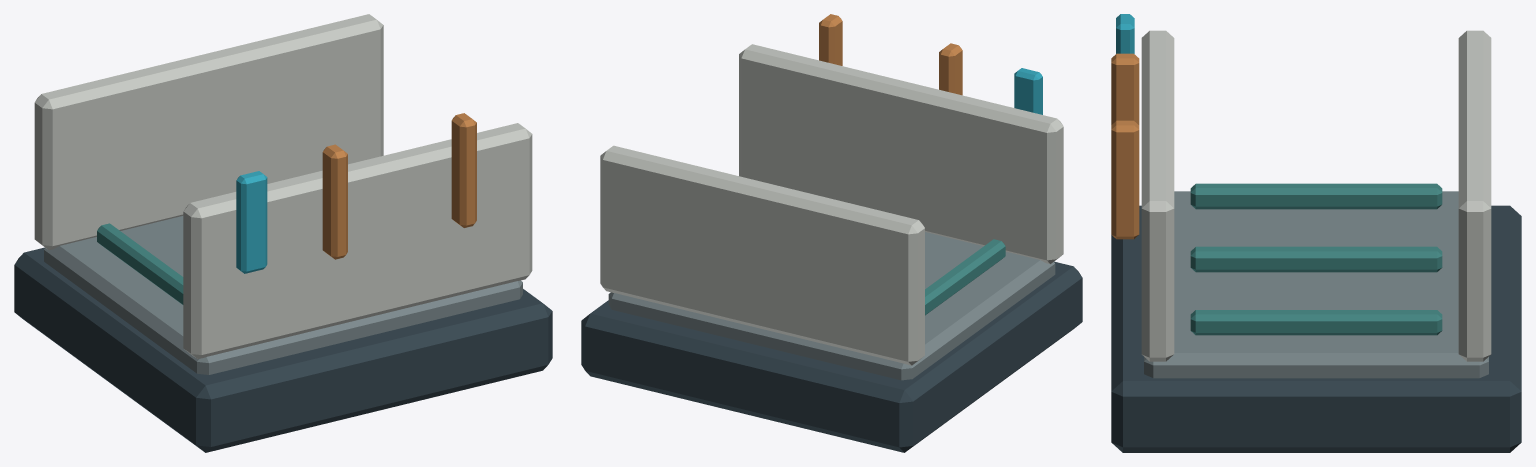
Rendered from phw_buffer_belt.glb.
The picture shows the model from 3 angles, left to right: view 1: azimuth 30°, elevation 25°; view 2: azimuth 150°, elevation 25°; view 3: azimuth 270°, elevation 25°; orthographic projection. The views are drawn at different scales.
Visible parts, largest first — view 1: body, fill_marker, threshold_max, threshold_min; view 2: body, fill_marker, threshold_max, threshold_min; view 3: body, threshold_max, threshold_min, fill_marker.
Boxes of the visible parts, box(x1,y1,x2,y2) form: body: box(14, 14, 552, 452); fill_marker: box(236, 171, 267, 273); threshold_max: box(451, 113, 476, 227); threshold_min: box(322, 144, 347, 259); body: box(581, 44, 1082, 452); fill_marker: box(1014, 68, 1042, 114); threshold_max: box(819, 14, 842, 65); threshold_min: box(939, 43, 962, 95); body: box(1111, 30, 1521, 452); threshold_max: box(1111, 120, 1139, 239); threshold_min: box(1111, 53, 1139, 124); fill_marker: box(1116, 14, 1134, 53).
Size of the model in its own units: 0.94 by 0.685 by 0.88.
